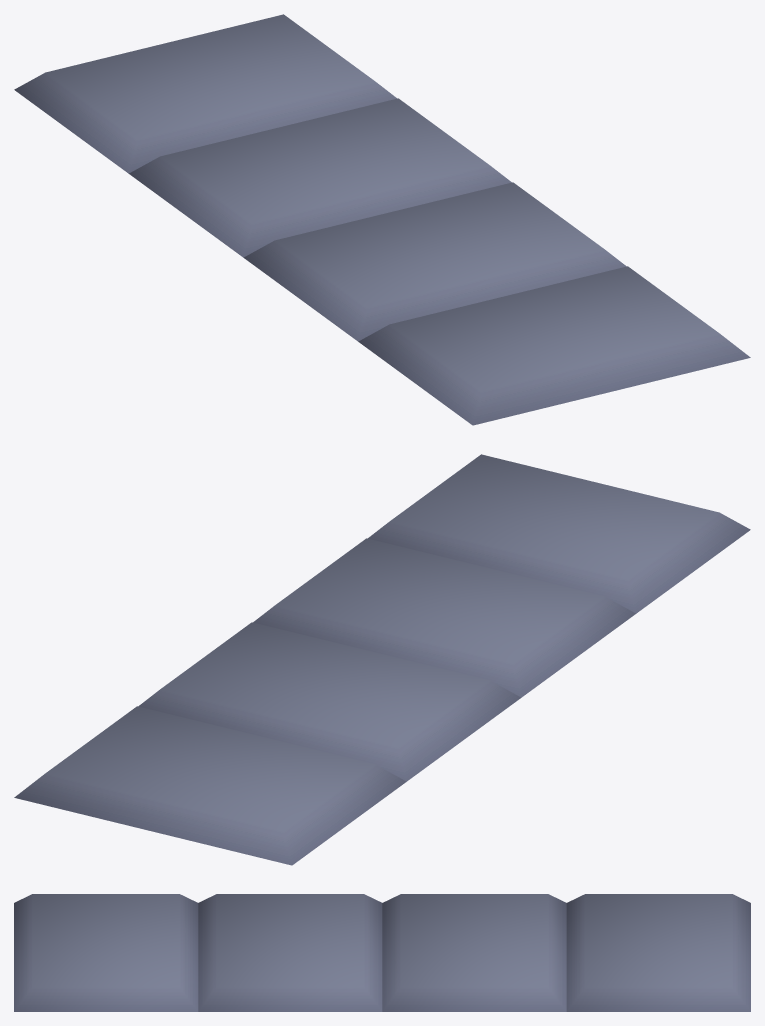
File: sub-path-stones-long.glb
3 renders of one model, top to bottom at view 1: azimuth 30°, elevation 25°; view 2: azimuth 150°, elevation 25°; view 3: azimuth 270°, elevation 25°, orthographic. The views are drawn at different scales.
Parts seen in each view (by area): view 1: path-stones-long; view 2: path-stones-long; view 3: path-stones-long.
Part boxes in pixels (box(x1,y1,x2,y2)): path-stones-long: box(14, 14, 750, 425); path-stones-long: box(14, 454, 750, 865); path-stones-long: box(14, 894, 750, 1011).
Bounding box in the file's own units: 1.4 × 0.1001 × 4.
Materials: 1 (1 with a texture image).
